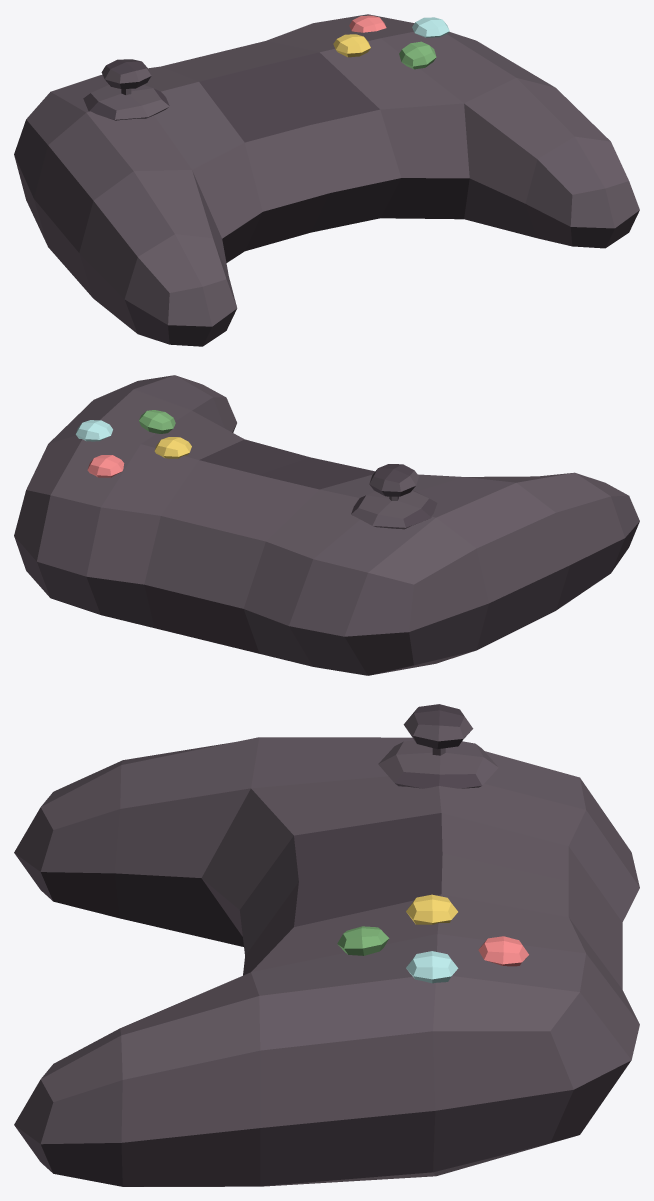
Rendered from Game Controller.fbx.
The picture shows the model from 3 angles, top to bottom: view 1: azimuth 30°, elevation 25°; view 2: azimuth 150°, elevation 25°; view 3: azimuth 270°, elevation 25°; orthographic projection. The views are drawn at different scales.
Visible parts, largest first — view 1: Game Controller; view 2: Game Controller; view 3: Game Controller.
Part boxes in pixels (left/top/right/bottom): Game Controller: left=14, top=14, right=639, bottom=346; Game Controller: left=14, top=375, right=639, bottom=675; Game Controller: left=14, top=704, right=639, bottom=1186.
Size of the model in its own units: 45.34 by 16.24 by 35.46.
